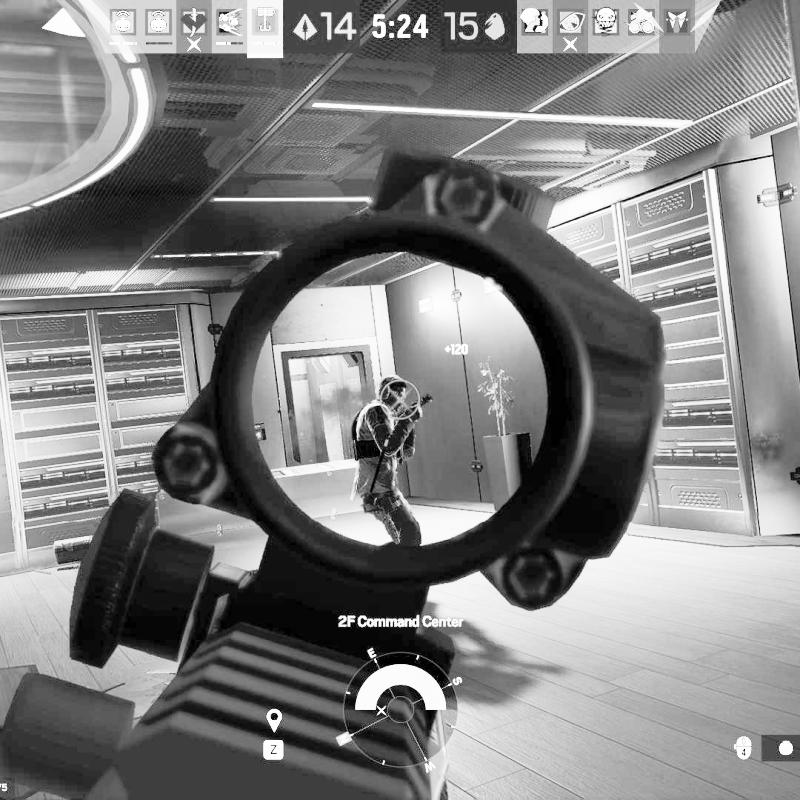Character: (351, 373, 436, 547)
Head: (378, 374, 408, 407)
